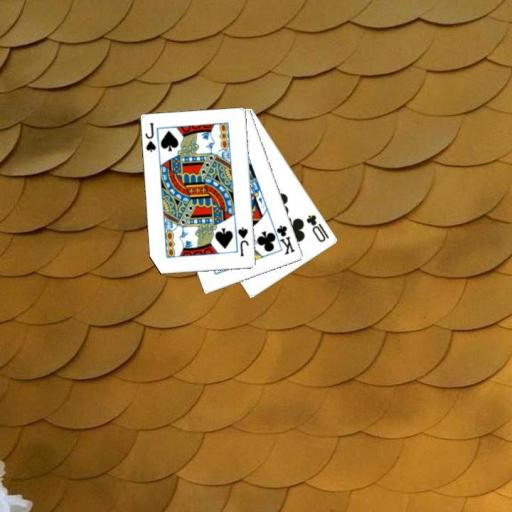10C: (303, 211, 331, 244)
JS: (142, 120, 157, 154), (235, 224, 250, 257)
KC: (269, 222, 296, 256)
